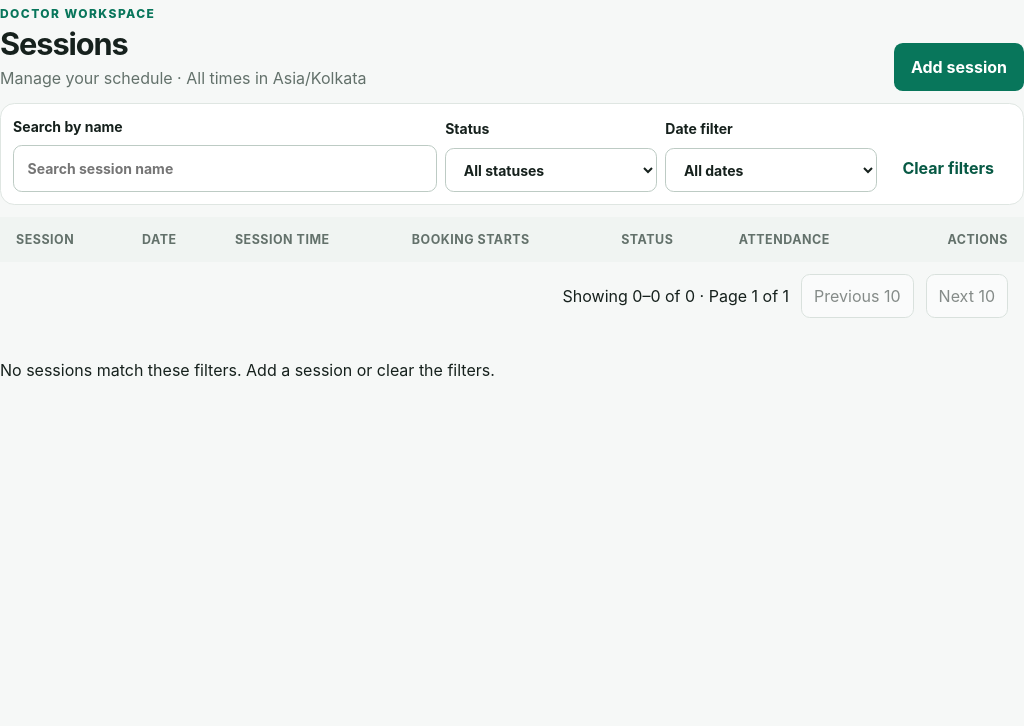
Test case: rejects a booking-open time after session start
The width and height of the screenshot is (1024, 726).
Click the button "Add session": (959, 67) [894,43,1023,91]
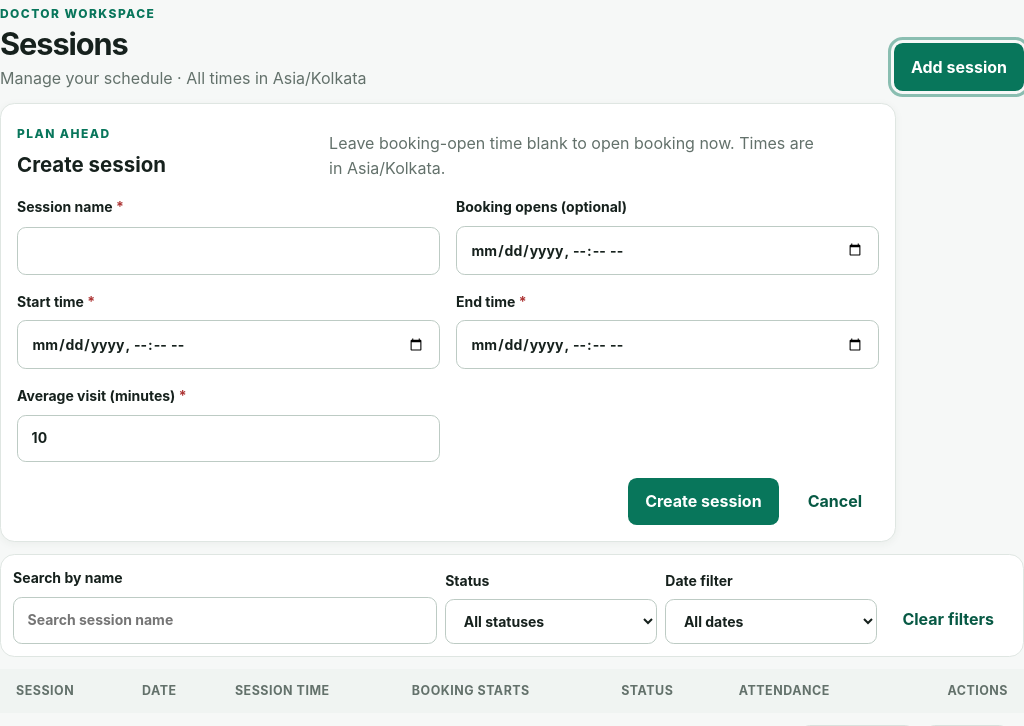
In the field labelled "Session name *": (228, 251) [17,227,440,275], type "Later clinic"
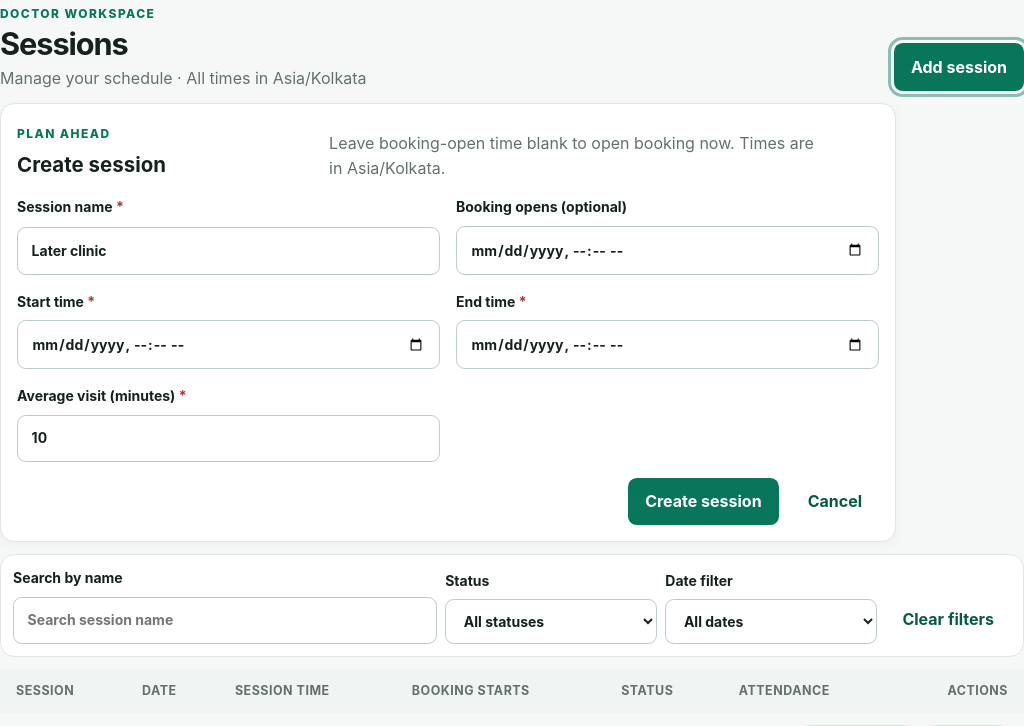
In the field labelled "Booking opens (optional)": (668, 250) [456,226,879,275], type "2026-09-17T20:30"
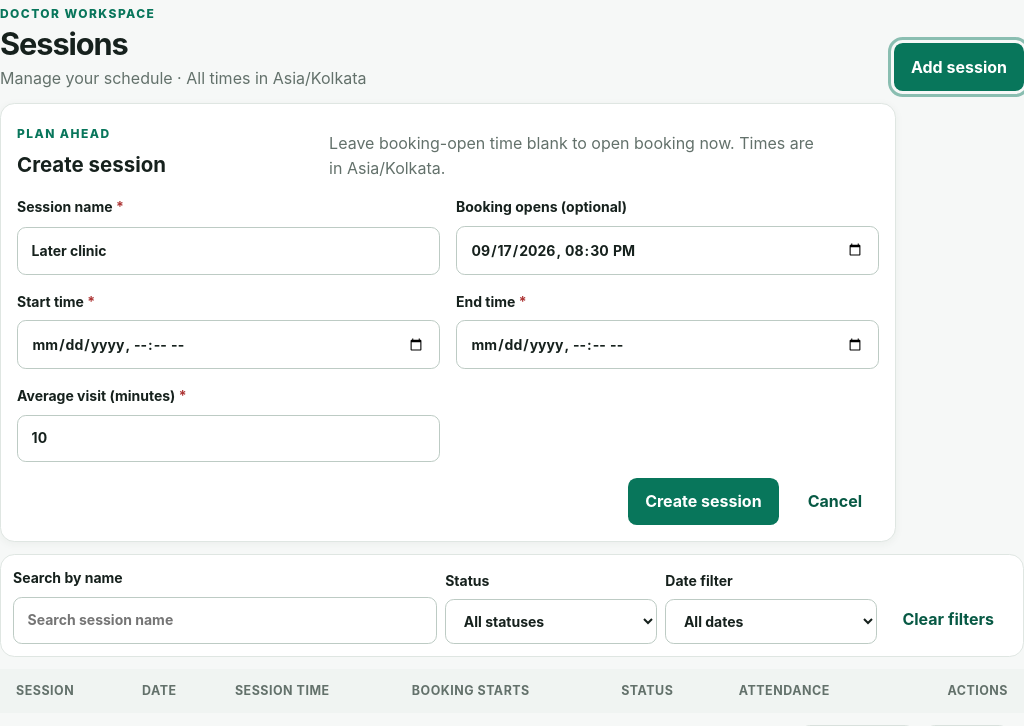
In the field labelled "Start time *": (228, 345) [17,320,440,369], type "2026-09-17T19:30"
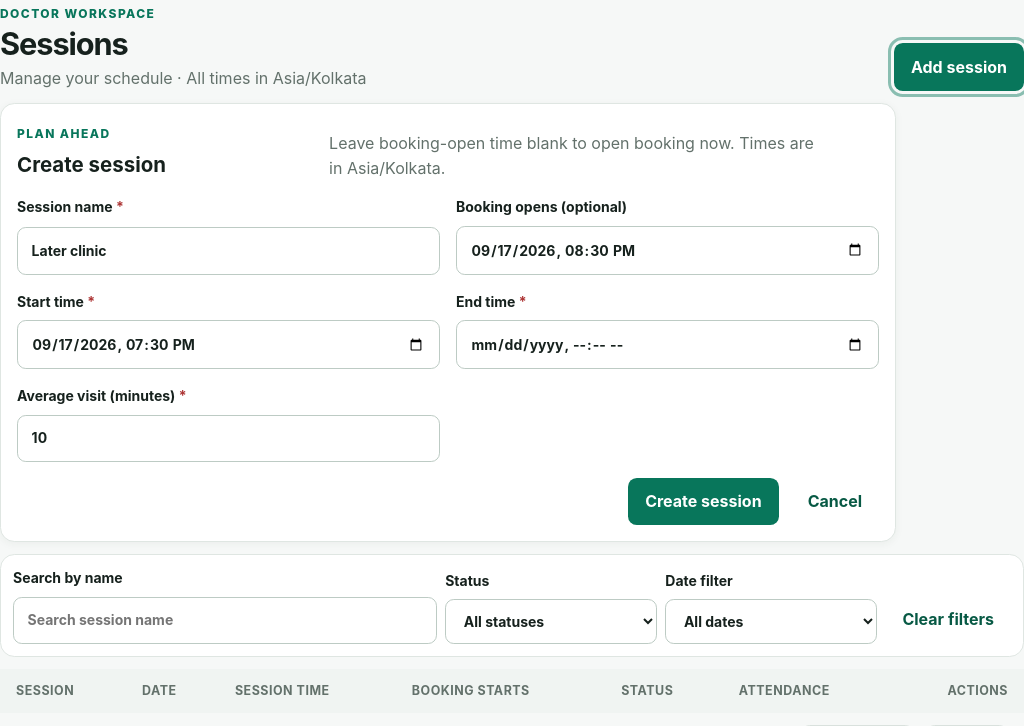
In the field labelled "End time *": (668, 345) [456,320,879,369], type "2026-09-17T21:30"
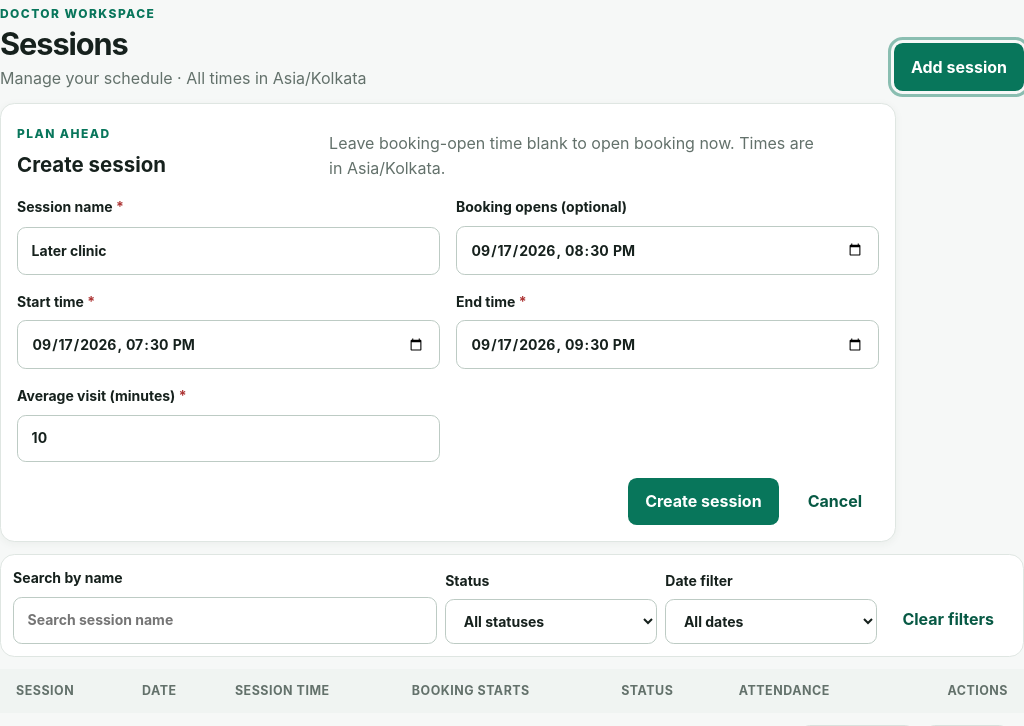
Click the button "Create session": (703, 501) [628,478,779,525]
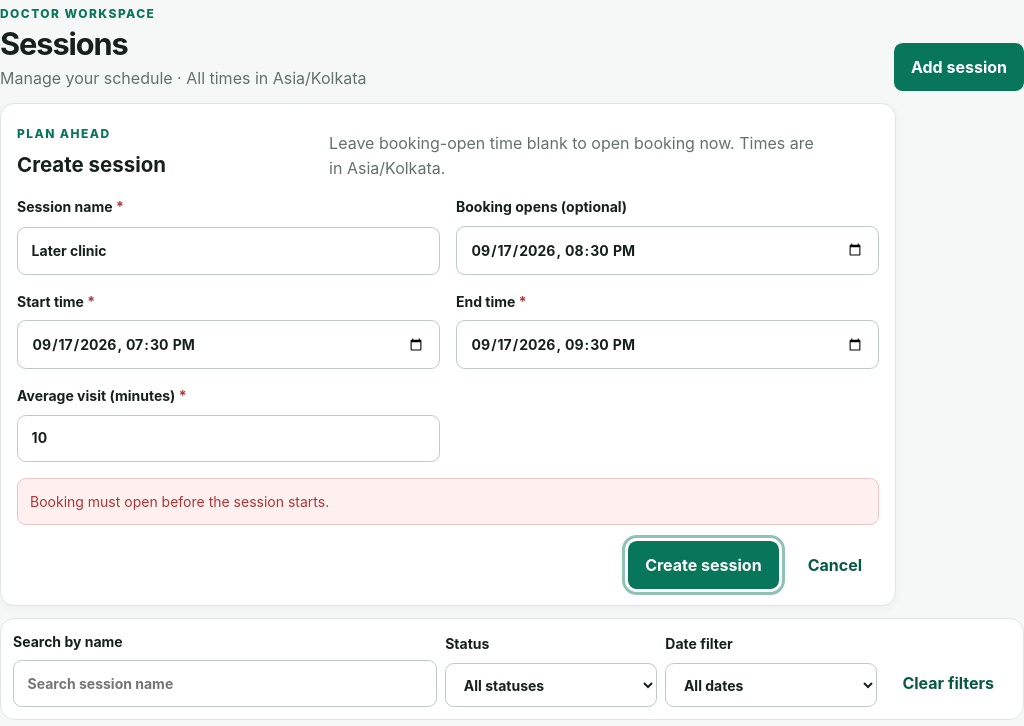
Result: the message reads "Booking must open before the session starts." at [30,492,329,510]
